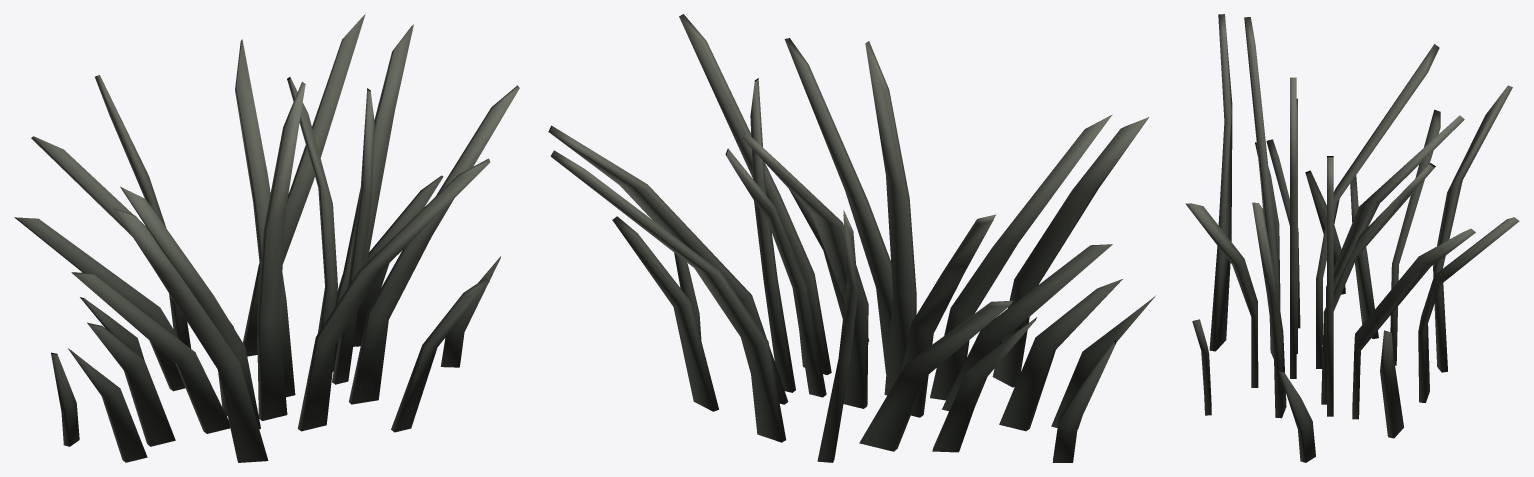
Rendered from garden_grass_sage.glb.
3 renders of one model, left to right at view 1: azimuth 30°, elevation 25°; view 2: azimuth 150°, elevation 25°; view 3: azimuth 270°, elevation 25°, orthographic. The views are drawn at different scales.
Visible parts, largest first — view 1: Grass_Large_Extruded; view 2: Grass_Large_Extruded; view 3: Grass_Large_Extruded.
Boxes of the visible parts, box(x1,y1,x2,y2) form: Grass_Large_Extruded: box(14, 14, 519, 462); Grass_Large_Extruded: box(548, 14, 1155, 462); Grass_Large_Extruded: box(1185, 14, 1519, 462).
Size of the model in its own units: 0.7 by 0.4783 by 0.4675.
Materials: 1 (1 with a texture image).
